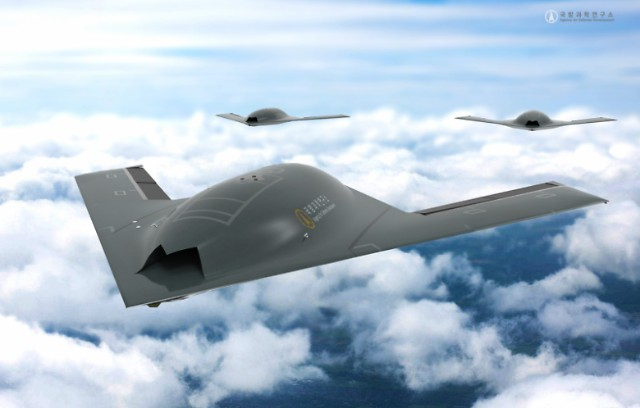maybay_khongnguoilai: (68, 159, 606, 321), (456, 102, 616, 138), (216, 106, 349, 135)
